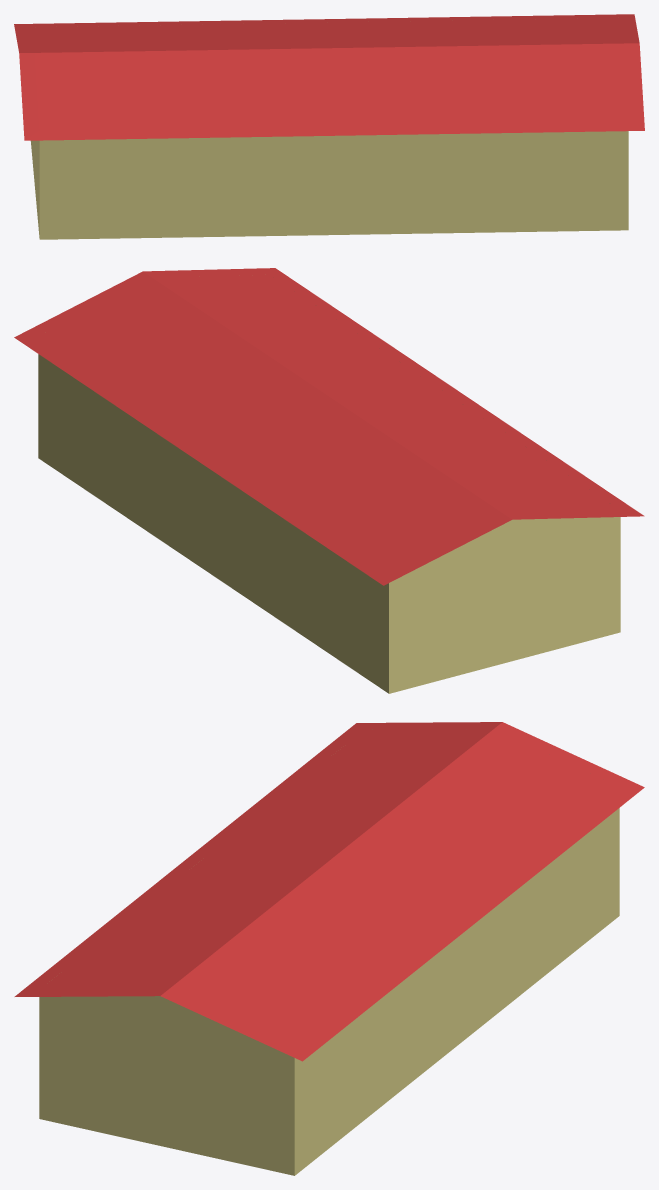
3 views of the same model, one above another, from view 1: azimuth 30°, elevation 25°; view 2: azimuth 150°, elevation 25°; view 3: azimuth 270°, elevation 25° (orthographic). The views are drawn at different scales.
Bounding box in the file's own units: 42.93 × 33.82 × 9.39.
